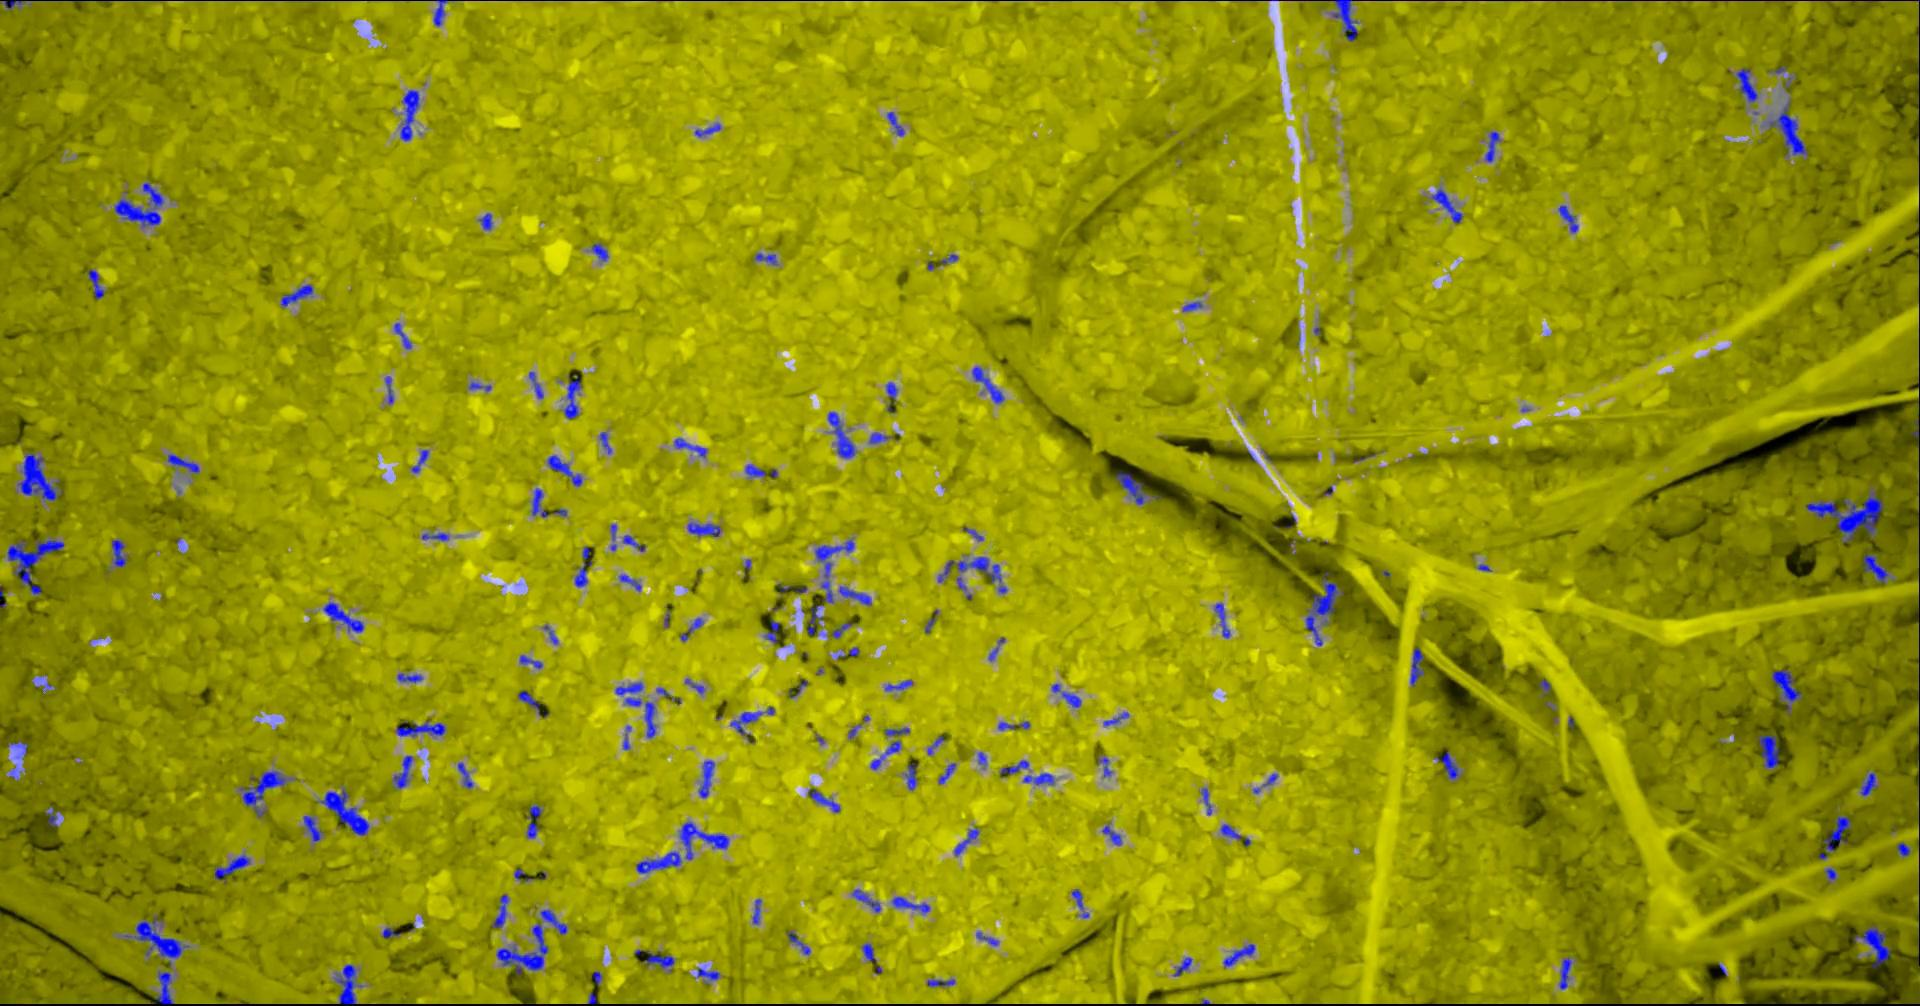ant: (123, 916, 188, 967), (6, 539, 63, 594), (1305, 572, 1343, 645), (495, 923, 549, 976), (937, 556, 1006, 593), (814, 539, 853, 602), (319, 788, 370, 835), (114, 182, 163, 226), (1768, 102, 1807, 155), (240, 770, 286, 815), (17, 453, 61, 500), (679, 821, 729, 859), (1851, 925, 1891, 967), (1818, 815, 1850, 859), (1771, 669, 1802, 714), (827, 412, 855, 459), (323, 602, 363, 633), (625, 697, 655, 737), (971, 366, 1003, 403), (547, 455, 582, 486), (335, 964, 362, 1005), (1115, 471, 1147, 504), (1431, 188, 1462, 222), (635, 851, 681, 873), (1333, 0, 1357, 41), (400, 89, 419, 140), (730, 711, 762, 739), (1862, 549, 1887, 583), (215, 854, 249, 879), (563, 373, 582, 418), (1735, 67, 1757, 102), (1223, 942, 1255, 967), (574, 546, 593, 586), (396, 720, 444, 735), (808, 788, 839, 810), (279, 285, 312, 306), (1757, 734, 1779, 767), (954, 827, 978, 855), (538, 909, 566, 934), (674, 437, 706, 457), (1220, 824, 1250, 846), (851, 889, 880, 911), (838, 586, 871, 605), (392, 754, 411, 788), (891, 895, 930, 912), (643, 951, 674, 970), (1436, 751, 1458, 779), (1214, 602, 1230, 638), (168, 453, 198, 473), (156, 970, 173, 1005), (698, 760, 714, 796), (679, 617, 703, 640), (491, 894, 508, 927), (1558, 205, 1577, 232), (1410, 647, 1423, 685), (1070, 888, 1088, 917), (787, 931, 809, 954), (518, 690, 538, 714), (526, 805, 541, 837), (303, 815, 323, 841), (531, 488, 547, 517), (806, 605, 822, 635), (110, 539, 127, 567), (394, 323, 411, 348), (88, 269, 103, 298), (687, 522, 719, 536), (886, 111, 904, 135), (1484, 131, 1498, 161), (1101, 824, 1121, 845), (999, 760, 1029, 774), (528, 371, 543, 398), (411, 448, 428, 473), (457, 762, 472, 788), (622, 533, 644, 551), (1559, 956, 1571, 989), (618, 574, 640, 591), (433, 0, 447, 25), (615, 681, 643, 694), (1860, 772, 1876, 795), (1173, 956, 1191, 976), (830, 621, 851, 638), (885, 382, 897, 412), (695, 123, 720, 136), (764, 619, 778, 641), (519, 654, 542, 668), (590, 243, 608, 260), (938, 763, 955, 782), (1022, 774, 1053, 784), (1103, 713, 1128, 725), (1062, 691, 1079, 708), (1096, 757, 1111, 776), (975, 932, 998, 945), (861, 942, 876, 962), (884, 680, 912, 690), (513, 868, 533, 882), (756, 251, 777, 264), (697, 967, 719, 979), (1201, 788, 1211, 814), (599, 431, 611, 453), (905, 763, 916, 789), (44, 807, 57, 827), (383, 375, 392, 403), (745, 464, 764, 476), (997, 721, 1029, 729), (477, 212, 491, 229), (0, 0, 25, 9), (884, 727, 909, 735), (1911, 419, 1919, 448), (926, 978, 955, 986), (869, 432, 888, 443), (397, 673, 422, 682), (885, 741, 900, 754), (422, 532, 448, 540), (870, 754, 884, 768), (1182, 301, 1201, 311), (752, 898, 759, 923), (382, 927, 401, 937), (469, 382, 490, 391), (1896, 842, 1909, 856), (1538, 678, 1549, 694)
